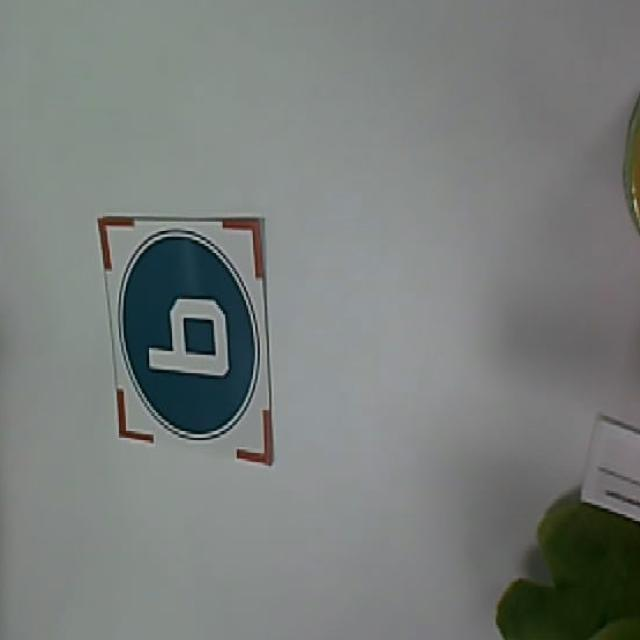parking: (97, 207, 282, 472)
